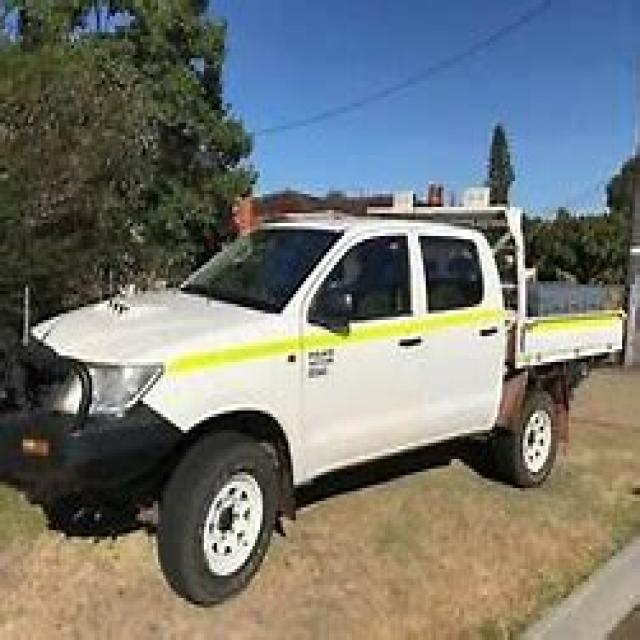light_vehicle: (3, 187, 617, 611)
